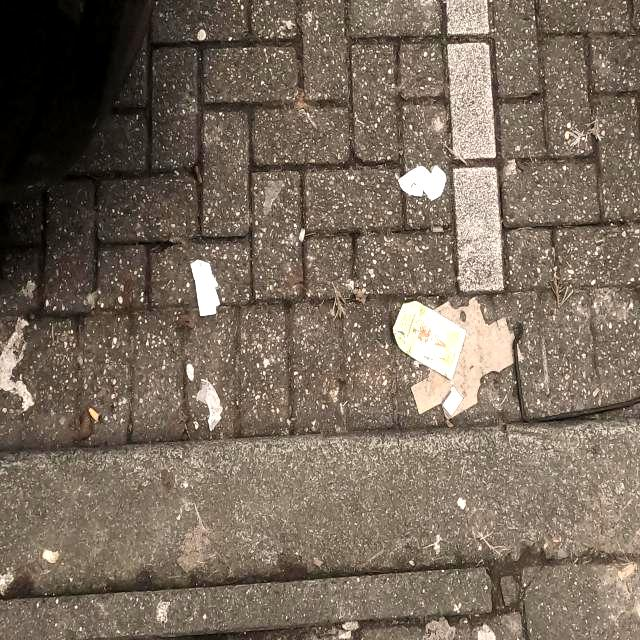Paper: (189, 258, 221, 318), (397, 164, 447, 202)
